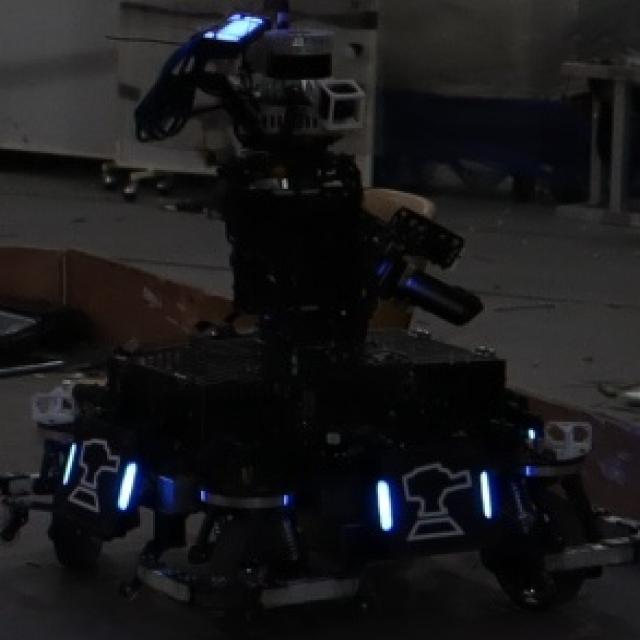Bs: (374, 462, 494, 541), (61, 430, 140, 520)
